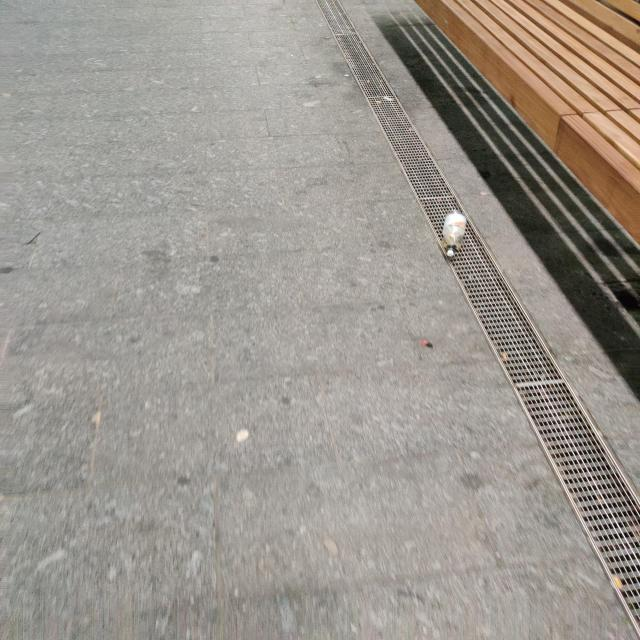litter: (442, 211, 467, 257)
